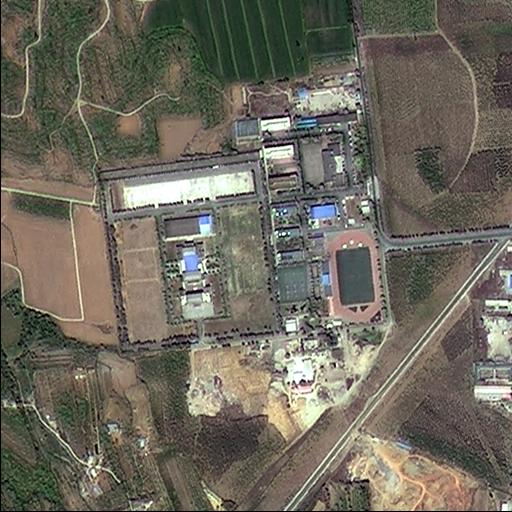school: (233, 109, 390, 327)
